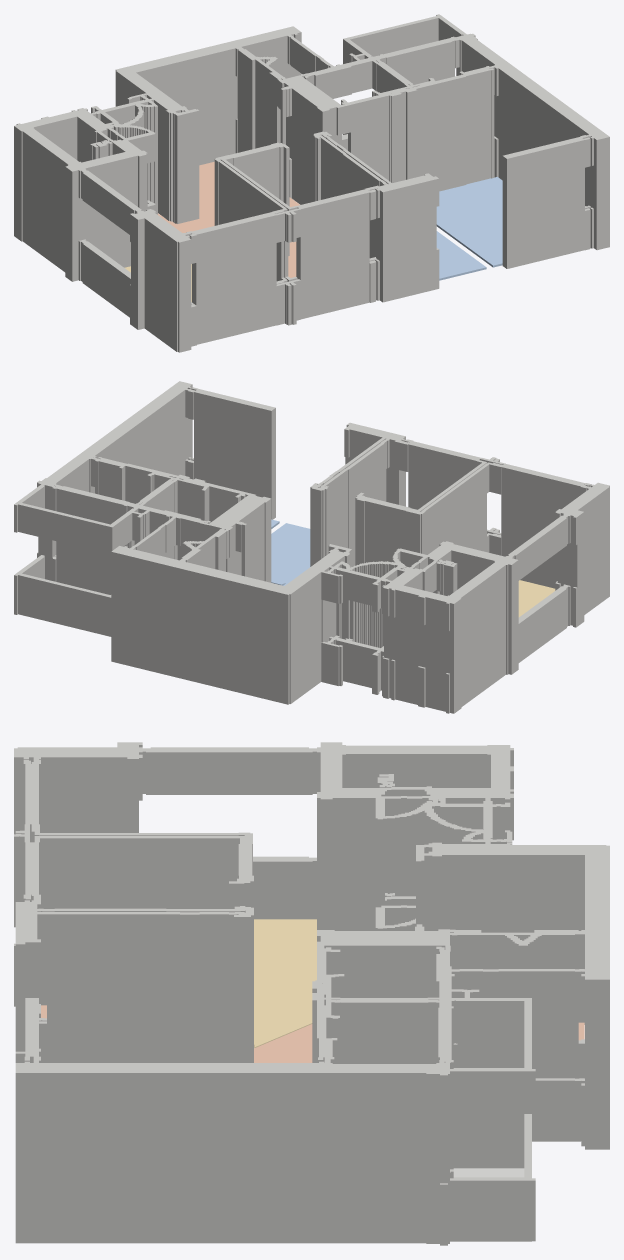
3 views of the same model, one above another, from view 1: azimuth 30°, elevation 25°; view 2: azimuth 150°, elevation 25°; view 3: azimuth 270°, elevation 25° (orthographic). The views are drawn at different scales.
Parts seen in each view (by area): view 1: walls, room:bedroom:2, room:kitchen:0; view 2: walls, room:bedroom:2, room:living:3; view 3: walls, room:living:3, room:kitchen:0, room:ledge:1.
Part boxes in pixels (x1,y1,x2,y2): walls: (14, 14, 609, 352); room:bedroom:2: (436, 177, 502, 280); room:kitchen:0: (157, 161, 299, 277); walls: (14, 381, 609, 713); room:bedroom:2: (271, 519, 310, 585); room:living:3: (518, 580, 555, 617); walls: (14, 742, 609, 1245); room:living:3: (254, 919, 316, 1048); room:kitchen:0: (41, 1005, 584, 1062); room:ledge:1: (453, 1168, 524, 1177).
Size of the model in its own units: 11.75 by 2.8 by 8.89.
